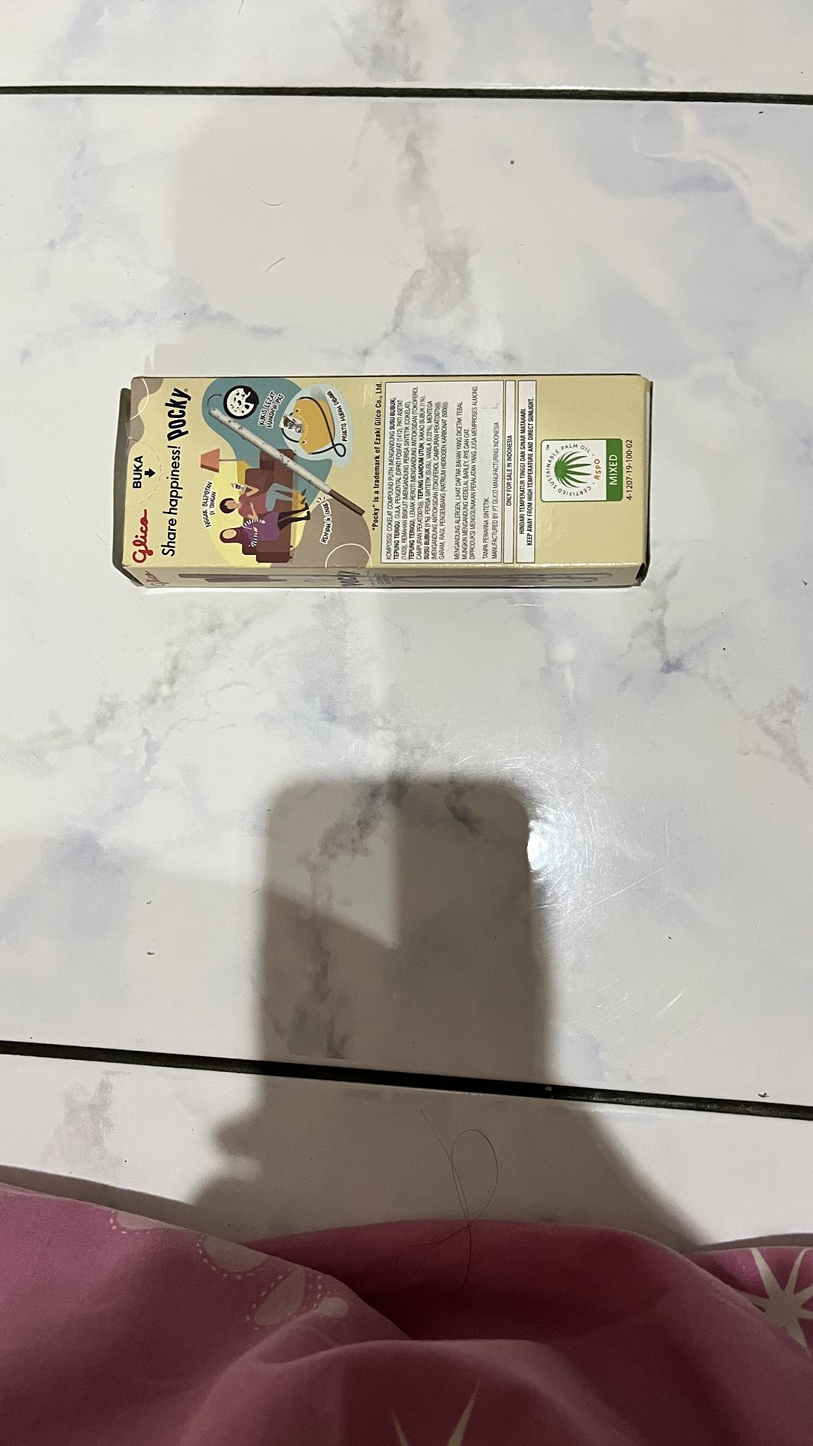Kertas: (118, 380, 649, 585)
